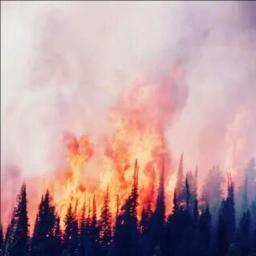Heavy smoke: (2, 0, 256, 200)
Large fire: (56, 109, 178, 231)
